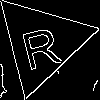R: (16, 18, 63, 71)
